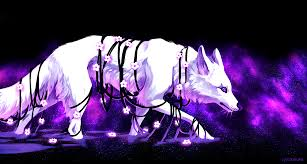Lobo: (8, 28, 244, 146)
